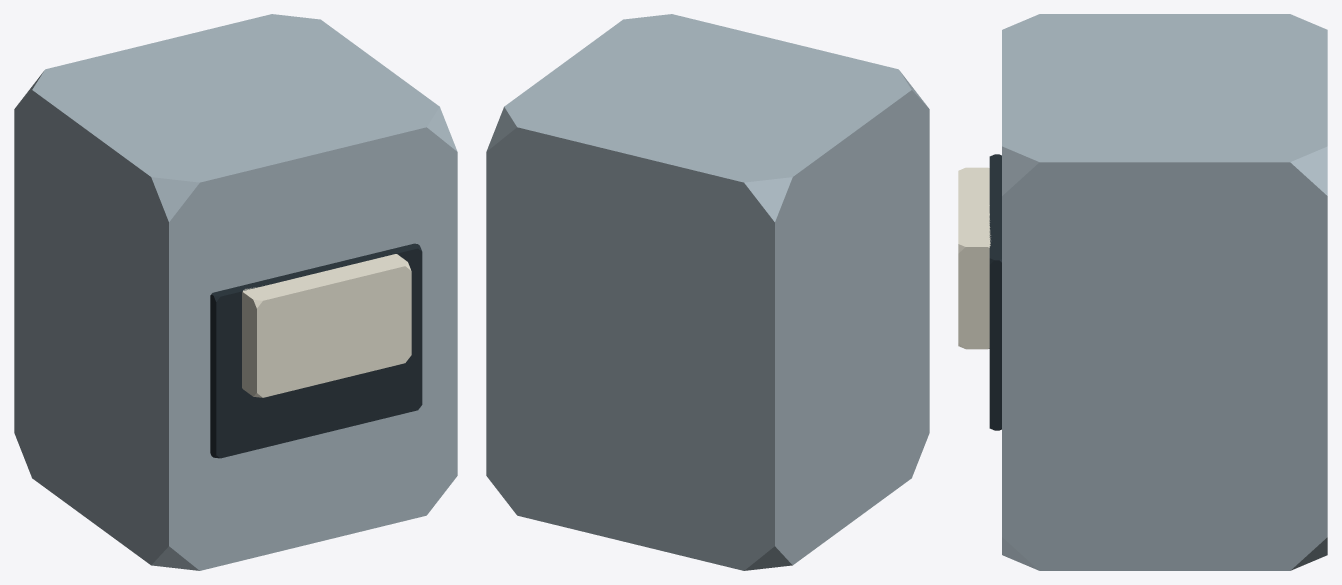
Rendered from NapkinDispenser.glb.
The picture shows the model from 3 angles, left to right: view 1: azimuth 30°, elevation 25°; view 2: azimuth 150°, elevation 25°; view 3: azimuth 270°, elevation 25°; orthographic projection. The views are drawn at different scales.
Visible parts, largest first — view 1: NapkinDispenser; view 2: NapkinDispenser; view 3: NapkinDispenser.
Boxes of the visible parts, x1,y1,x2,y2 form: NapkinDispenser: [14, 14, 457, 570]; NapkinDispenser: [486, 14, 929, 570]; NapkinDispenser: [958, 14, 1327, 570].
Bounding box in the file's own units: 0.14 × 0.18 × 0.1475.
